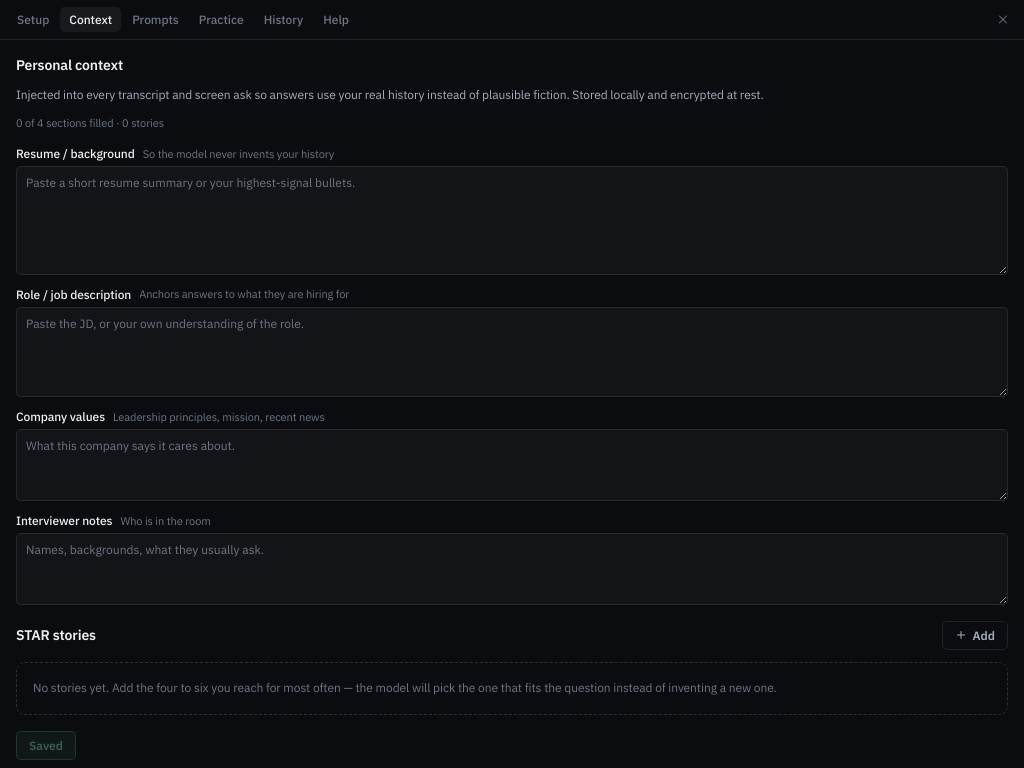
Test: Context tab › keeps the draft and explains itself when a save fails
This screenshot has width=1024, height=768.
Expected: the text "No stories yet" is shown, 33,680 -> 777,695
Type "unsaved work" into the text box with placeholder "Paste a short resume summary".
click(512, 220); type("unsaved work")  # box 16,166 -> 1008,275
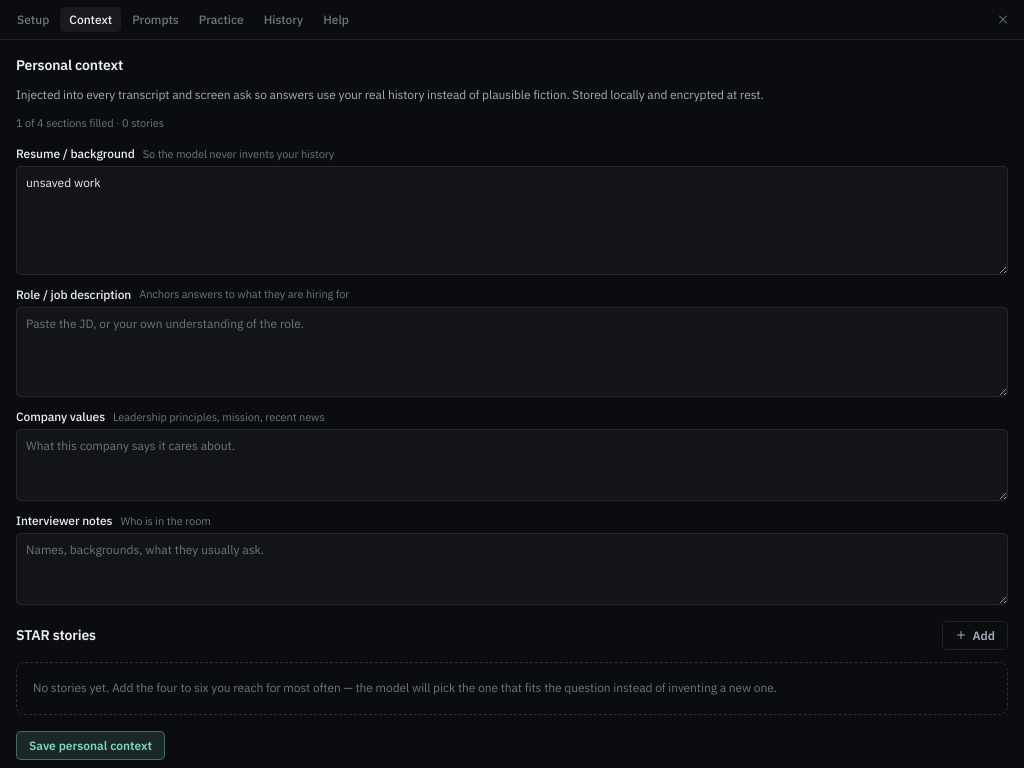
Click the button "Save personal context".
click(90, 745)  # box 16,730 -> 165,760
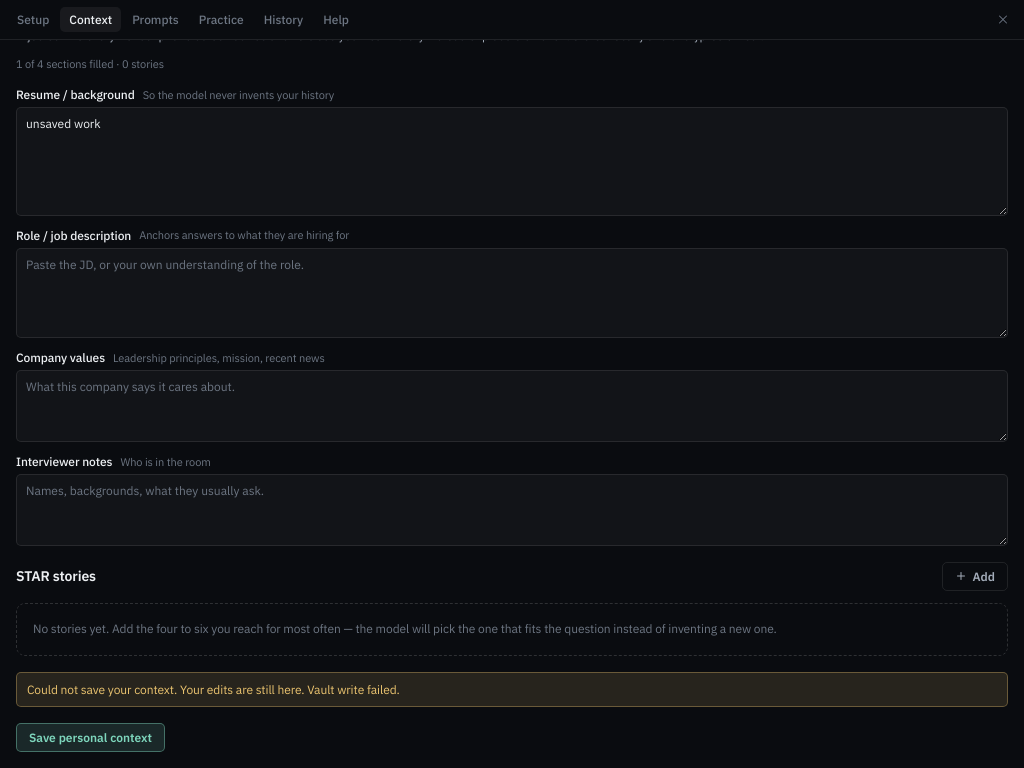
Expected: the button "Save personal context" is enabled, 16,723 -> 165,752
Expected: the text "Could not save your context" is shown, 27,682 -> 400,696
